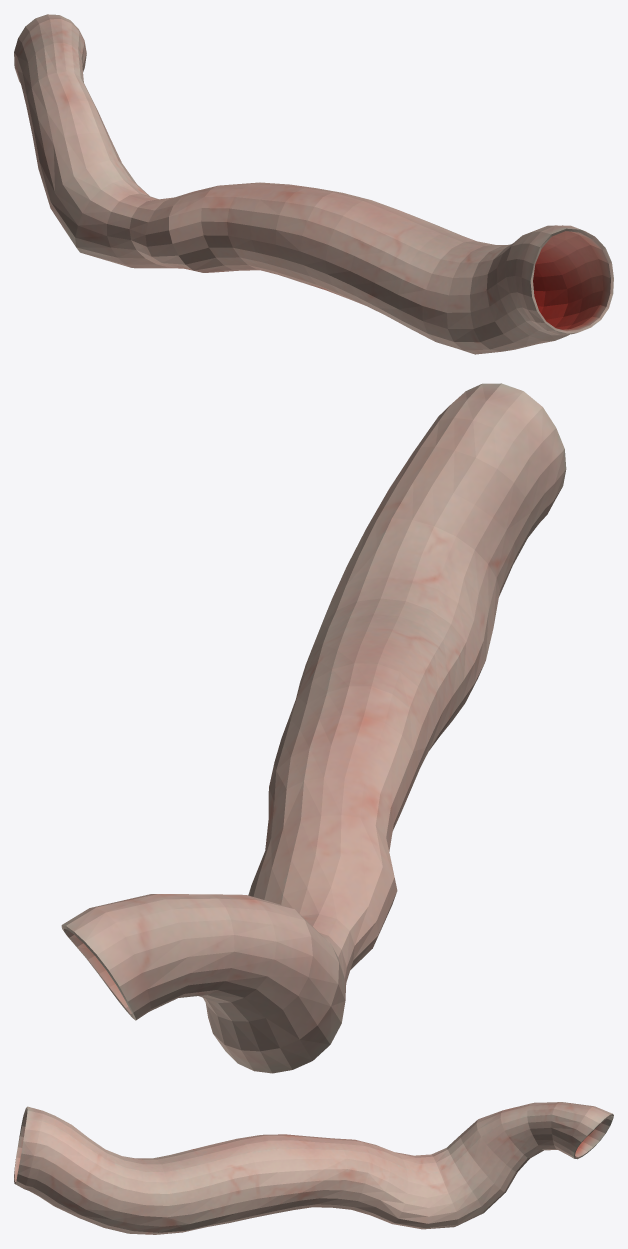
File: colon_descending_LP.glb
3 renders of one model, top to bottom at view 1: azimuth 30°, elevation 25°; view 2: azimuth 150°, elevation 25°; view 3: azimuth 270°, elevation 25°, orthographic. The views are drawn at different scales.
Parts seen in each view (by area): view 1: colon_descending_LP; view 2: colon_descending_LP; view 3: colon_descending_LP.
Boxes of the visible parts, <box> form: colon_descending_LP: <box>14,14,613,354</box>; colon_descending_LP: <box>61,383,566,1073</box>; colon_descending_LP: <box>14,1102,613,1234</box>.
Size of the model in its own units: 0.00195 by 0.00167 by 0.0057.
Materials: 1 (1 with a texture image).
